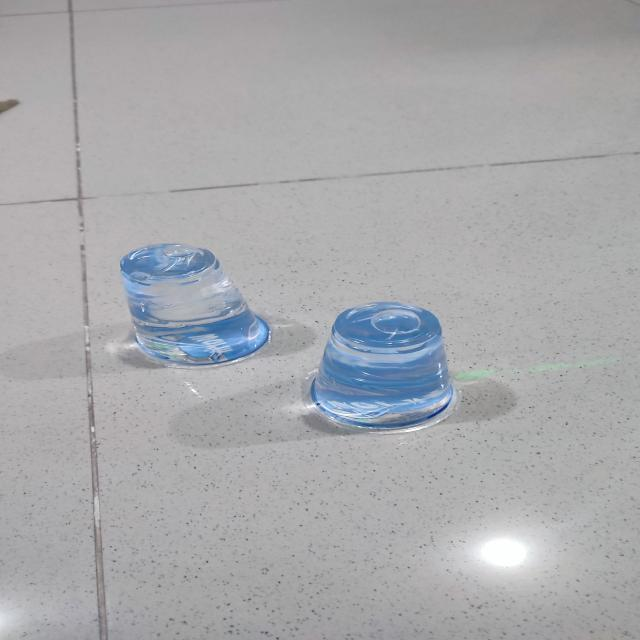air gelas: (115, 224, 278, 375), (297, 296, 460, 440)
